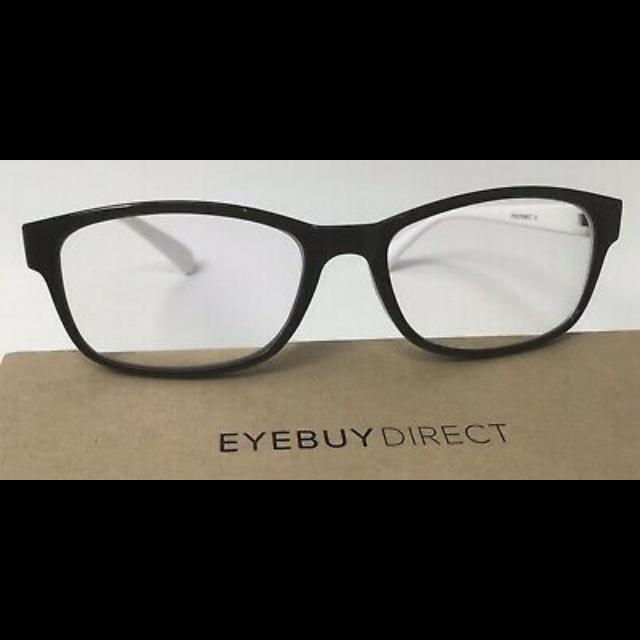glasses: (21, 185, 622, 379)
